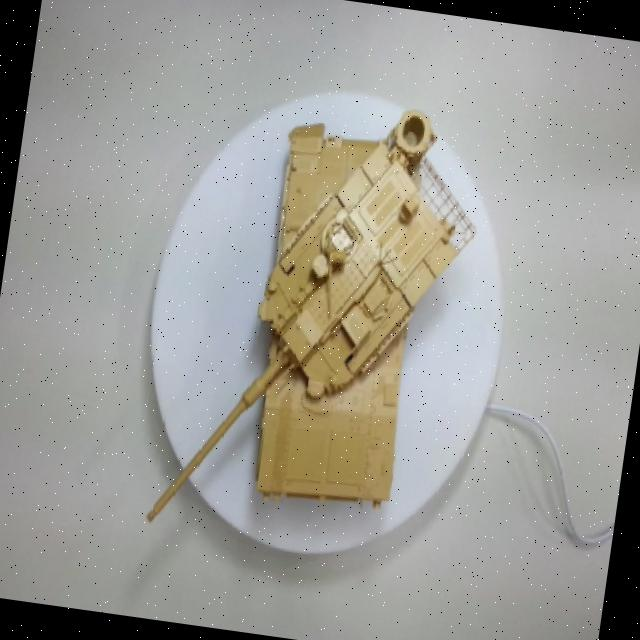korea tank: (116, 53, 530, 632)
